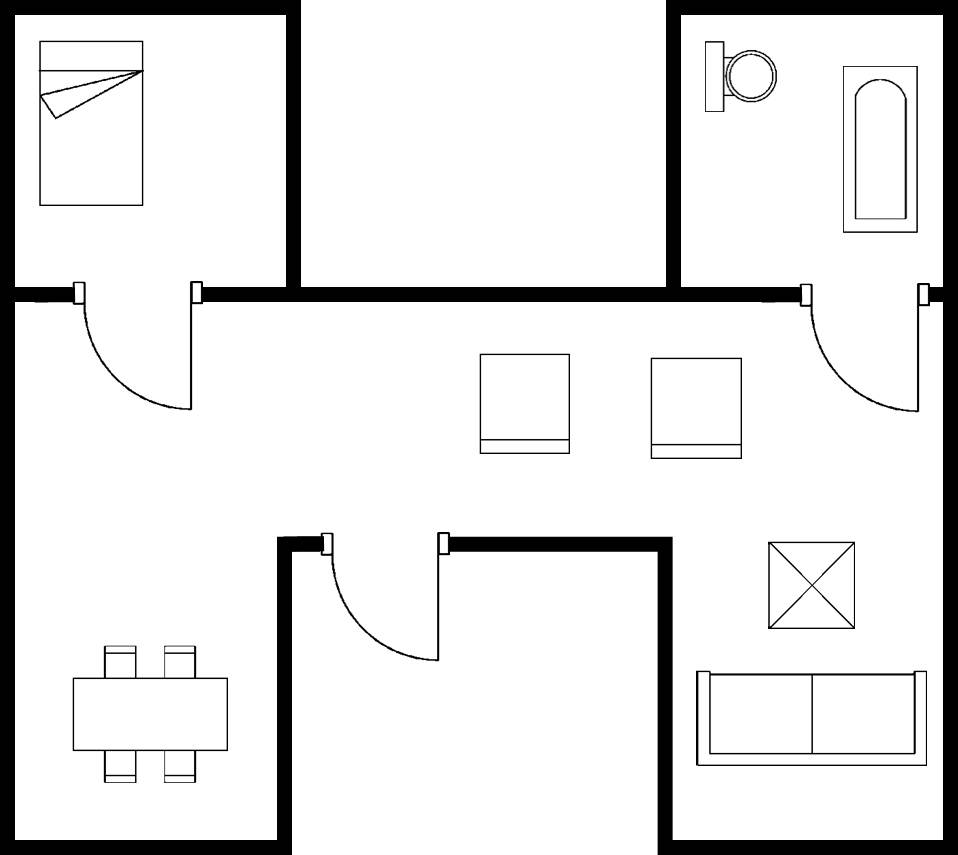bed: (32, 36, 150, 216)
coffee_table: (763, 536, 861, 636)
dining_table: (64, 637, 238, 791)
large_sink: (698, 35, 783, 121)
large_sofa: (689, 665, 933, 774)
small_sofa: (646, 350, 751, 468), (473, 348, 579, 464)
tub: (837, 59, 926, 241)
